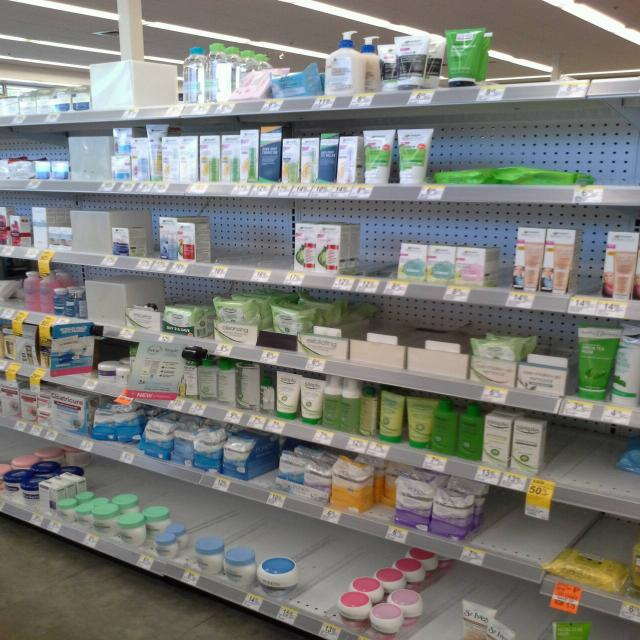void: (492, 31, 640, 82), (554, 419, 622, 502), (478, 501, 566, 562), (214, 212, 288, 273), (587, 116, 639, 187), (358, 219, 396, 273)
